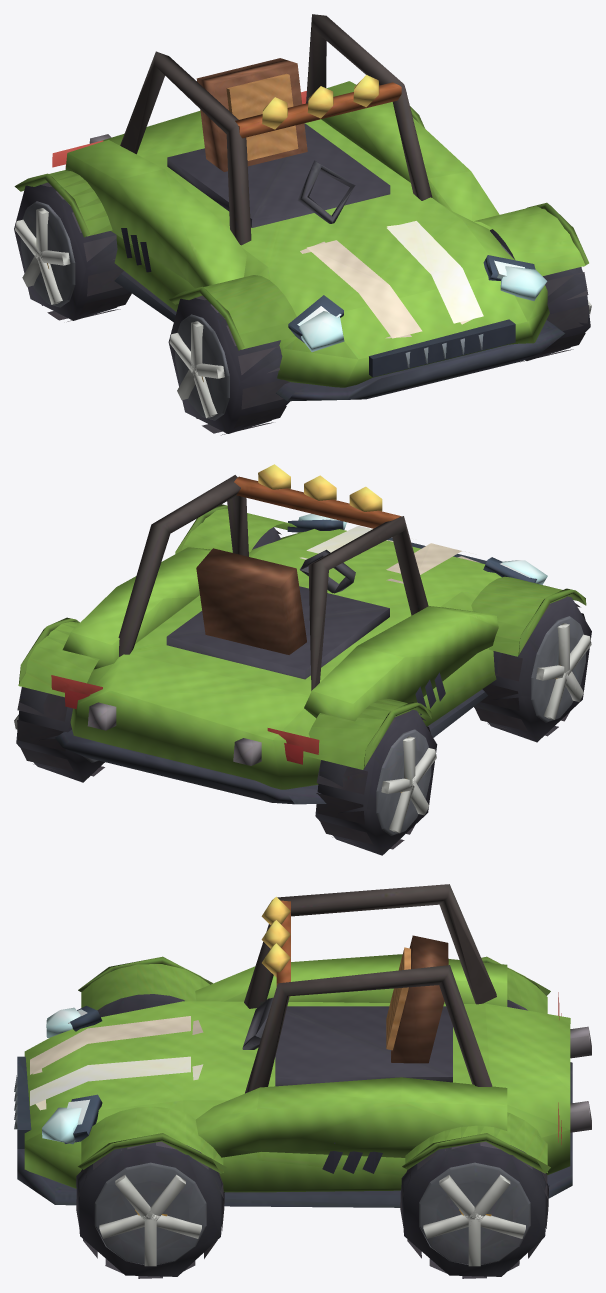
The model's file is kart_ranger.glb.
The picture shows the model from 3 angles, top to bottom: view 1: azimuth 30°, elevation 25°; view 2: azimuth 150°, elevation 25°; view 3: azimuth 270°, elevation 25°; orthographic projection. The views are drawn at different scales.
Visible parts, largest first — view 1: Body, Wheel_L_Front, Wheel_L_Back, Wheel_R_Front; view 2: Body, Wheel_L_Back, Wheel_L_Front, Wheel_R_Back; view 3: Body, Wheel_R_Front, Wheel_R_Back, Wheel_L_Front.
Part boxes in pixels (<box>): Body: <box>14,14,588,401</box>; Wheel_L_Front: <box>168,295,289,435</box>; Wheel_L_Back: <box>14,182,131,321</box>; Wheel_R_Front: <box>490,229,591,362</box>; Body: <box>18,464,586,804</box>; Wheel_L_Back: <box>315,709,437,855</box>; Wheel_L_Front: <box>474,596,591,742</box>; Wheel_R_Back: <box>14,687,104,782</box>; Body: <box>14,884,591,1207</box>; Wheel_R_Front: <box>76,1141,224,1278</box>; Wheel_R_Back: <box>400,1141,549,1278</box>; Wheel_L_Front: <box>97,994,184,1016</box>.
Bounding box in the file's own units: 1.8 × 1.19 × 2.3.
1 material, 1 textured.
